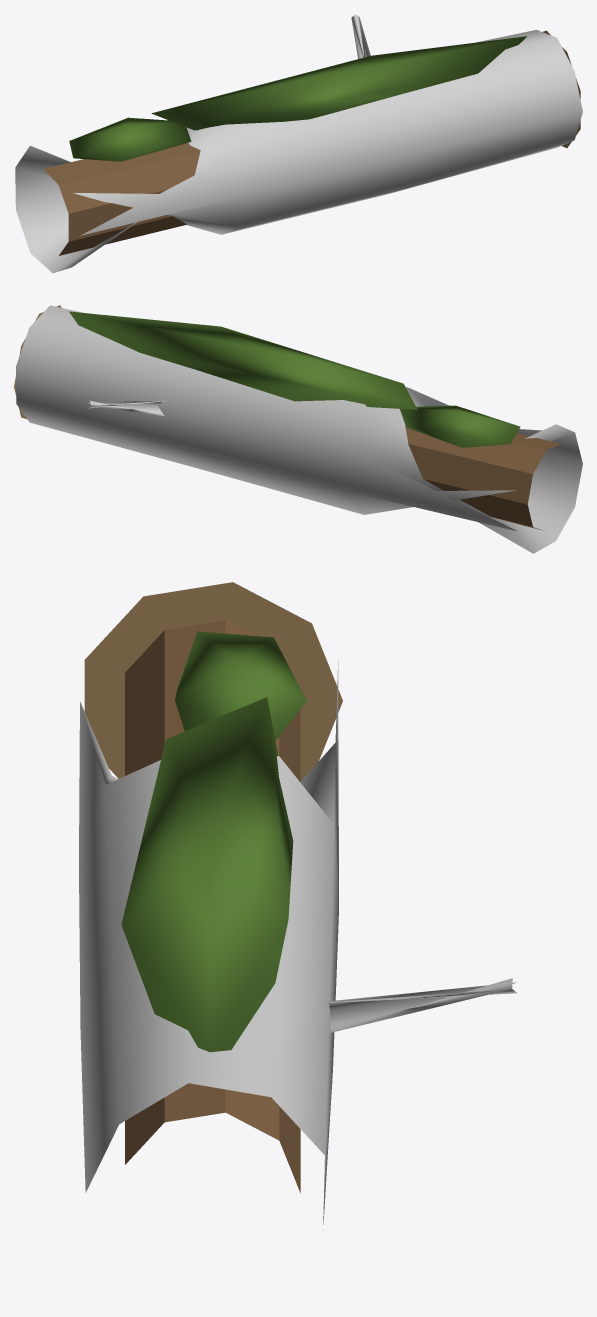
The model's file is log_hollow.gltf.
3 views of the same model, one above another, from view 1: azimuth 30°, elevation 25°; view 2: azimuth 150°, elevation 25°; view 3: azimuth 270°, elevation 25° (orthographic). The views are drawn at different scales.
Parts seen in each view (by area): view 1: log_hollow_Bark_Brown, log_hollow_Moss_Cap, log_hollow_Wood_Rot; view 2: log_hollow_Bark_Brown, log_hollow_Moss_Cap, log_hollow_Wood_Rot; view 3: log_hollow_Bark_Brown, log_hollow_Moss_Cap, log_hollow_Wood_EndGrain, log_hollow_Wood_Rot.
Boxes of the visible parts, x1=… form: log_hollow_Bark_Brown: x1=15, y1=14, x2=582, y2=273; log_hollow_Moss_Cap: x1=69, y1=36, x2=526, y2=161; log_hollow_Wood_Rot: x1=44, y1=143, x2=200, y2=255; log_hollow_Bark_Brown: x1=16, y1=305, x2=582, y2=553; log_hollow_Moss_Cap: x1=69, y1=311, x2=520, y2=447; log_hollow_Wood_Rot: x1=405, y1=425, x2=560, y2=530; log_hollow_Bark_Brown: x1=79, y1=659, x2=517, y2=1230; log_hollow_Moss_Cap: x1=121, y1=631, x2=306, y2=1052; log_hollow_Wood_EndGrain: x1=84, y1=582, x2=342, y2=781; log_hollow_Wood_Rot: x1=125, y1=620, x2=300, y2=1192.
Size of the model in its own units: 4.2 by 1.01 by 1.58.
